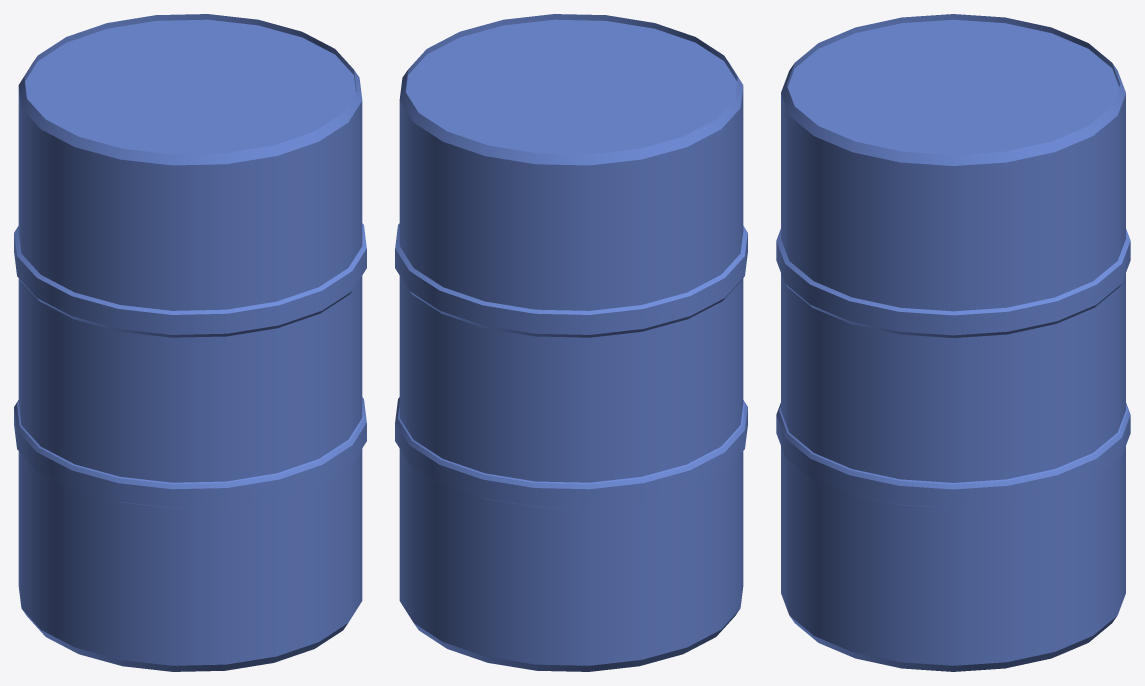
The model's file is barrel.fbx.
The picture shows the model from 3 angles, left to right: view 1: azimuth 30°, elevation 25°; view 2: azimuth 150°, elevation 25°; view 3: azimuth 270°, elevation 25°; orthographic projection.
Visible parts, largest first — view 1: Barrel; view 2: Barrel; view 3: Barrel.
Boxes of the visible parts, <box> form: Barrel: <box>14,14,366,671</box>; Barrel: <box>395,14,747,671</box>; Barrel: <box>776,14,1130,671</box>.
Bounding box in the file's own units: 5.76 × 9.27 × 5.76.
